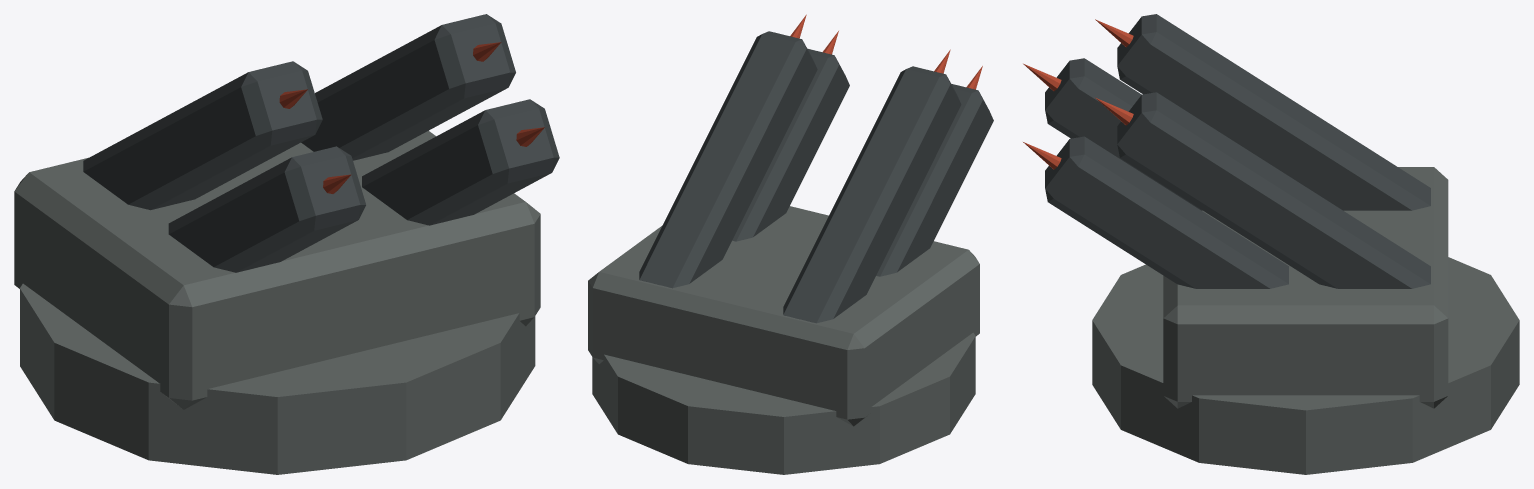
File: pvo_launcher.glb
3 views of the same model, side by side, from view 1: azimuth 30°, elevation 25°; view 2: azimuth 150°, elevation 25°; view 3: azimuth 270°, elevation 25° (orthographic). The views are drawn at different scales.
Parts seen in each view (by area): view 1: pvo_launcher; view 2: pvo_launcher; view 3: pvo_launcher.
Boxes of the visible parts, x1,y1,x2,y2 form: pvo_launcher: (14,14,559,474); pvo_launcher: (588,14,993,474); pvo_launcher: (1023,14,1519,474).
Size of the model in its own units: 0.6 by 0.5058 by 0.6981.
Materials: 1 (1 with a texture image).
